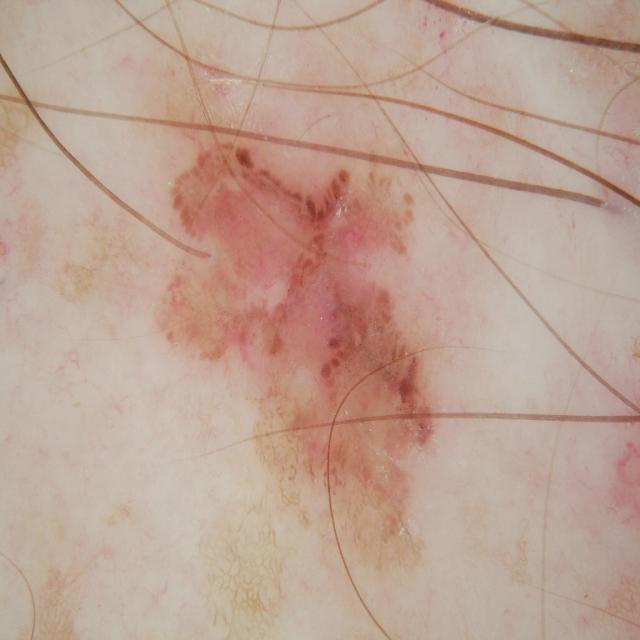Skin-Cancer Melanoma: (91, 65, 581, 558)
